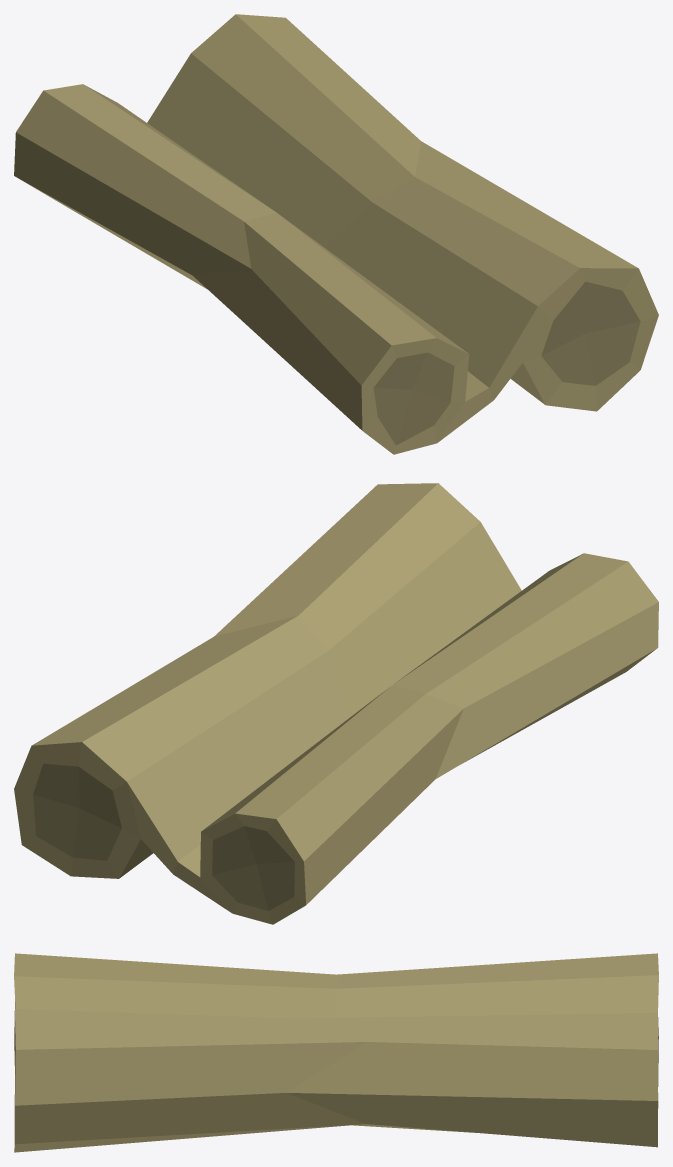
The model's file is Map_3.fbx.
3 renders of one model, top to bottom at view 1: azimuth 30°, elevation 25°; view 2: azimuth 150°, elevation 25°; view 3: azimuth 270°, elevation 25°, orthographic. The views are drawn at different scales.
Visible parts, largest first — view 1: Map_3; view 2: Map_3; view 3: Map_3.
Part boxes in pixels (x1,y1,x2,y2): Map_3: [14, 14, 658, 454]; Map_3: [14, 483, 658, 924]; Map_3: [14, 953, 658, 1152].
Bounding box in the file's own units: 20.93 × 9.92 × 42.62.
